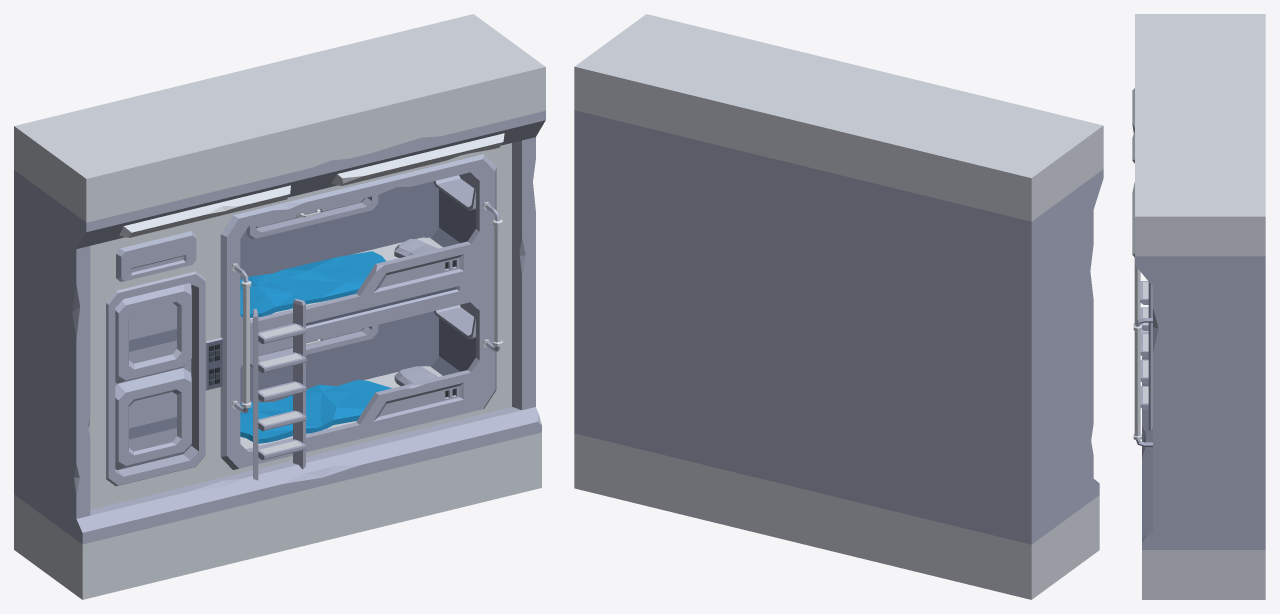
File: WallBed.FBX
The picture shows the model from 3 angles, left to right: view 1: azimuth 30°, elevation 25°; view 2: azimuth 150°, elevation 25°; view 3: azimuth 270°, elevation 25°; orthographic projection. The views are drawn at different scales.
Parts seen in each view (by area): view 1: WallBed1; view 2: WallBed1; view 3: WallBed1.
Boxes of the visible parts, x1=… form: WallBed1: x1=14, y1=14, x2=545, y2=599; WallBed1: x1=574, y1=14, x2=1103, y2=599; WallBed1: x1=1132, y1=14, x2=1265, y2=599.
Size of the model in its own units: 39.64 by 34.94 by 11.02.
